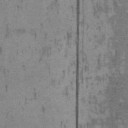surface scratch: (74, 0, 80, 128)
